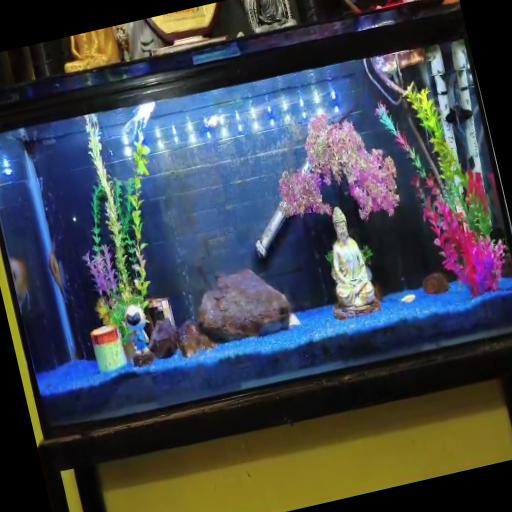Fish: (123, 102, 155, 142), (48, 239, 67, 303), (10, 258, 30, 314), (446, 105, 473, 135), (446, 105, 473, 125), (206, 115, 220, 128), (402, 294, 416, 303)
